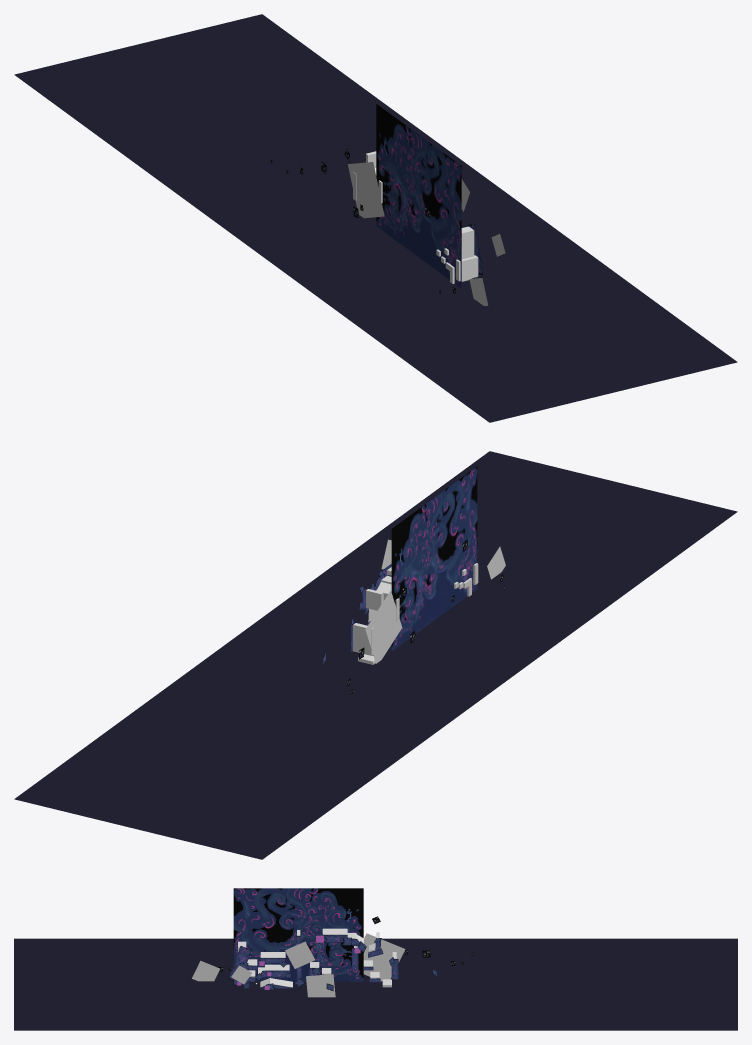
Rendered from conspiracy.1.fbx.
The picture shows the model from 3 angles, top to bottom: view 1: azimuth 30°, elevation 25°; view 2: azimuth 150°, elevation 25°; view 3: azimuth 270°, elevation 25°; orthographic projection. The views are drawn at different scales.
Parts seen in each view (by area): view 1: Plane, Plane.001, Flock of Birds - Flat Image.005, Cube; view 2: Plane, Plane.001, Flock of Birds - Flat Image.005, Cube; view 3: Plane, Plane.001, Flock of Birds - Flat Image.005, Cube.018.
Part boxes in pixels (<box>): Plane: <box>14,14,737,422</box>; Plane.001: <box>348,104,483,288</box>; Flock of Birds - Flat Image.005: <box>270,149,505,305</box>; Cube: <box>353,151,478,283</box>; Plane: <box>14,451,737,859</box>; Plane.001: <box>323,466,477,664</box>; Flock of Birds - Flat Image.005: <box>347,539,505,694</box>; Cube: <box>353,563,478,655</box>; Plane: <box>14,938,737,1030</box>; Plane.001: <box>229,888,437,991</box>; Flock of Birds - Flat Image.005: <box>192,916,474,997</box>; Cube.018: <box>247,928,391,987</box>.
Size of the model in its own units: 20616 by 10303 by 68424.
